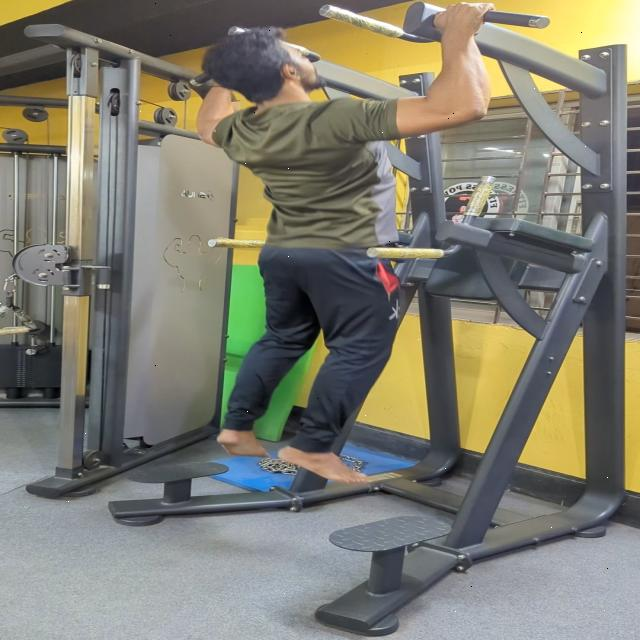Normal_PullUps: (135, 0, 528, 501)
